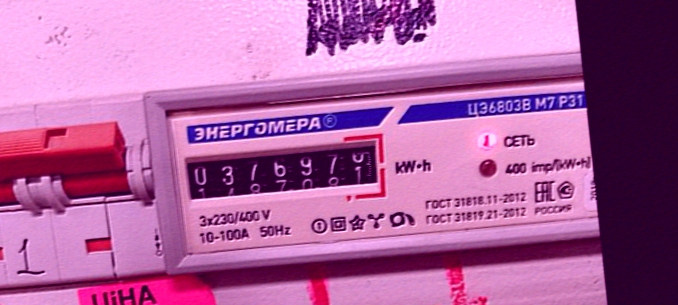0: (192, 163, 209, 186)
1: (351, 163, 365, 184)
3: (219, 163, 237, 186)
6: (271, 153, 288, 178)
7: (244, 157, 261, 182), (325, 151, 341, 175)
9: (297, 152, 314, 177)
screen: (175, 127, 392, 222)
